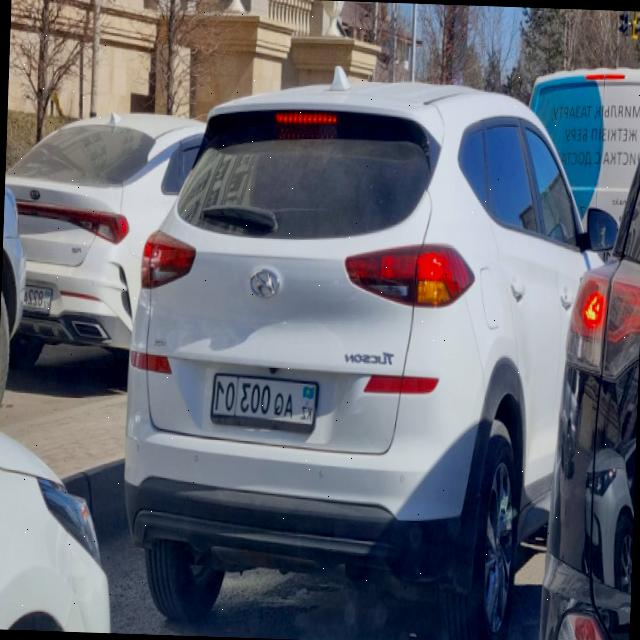number-plates: (209, 371, 319, 436), (19, 281, 56, 315)
